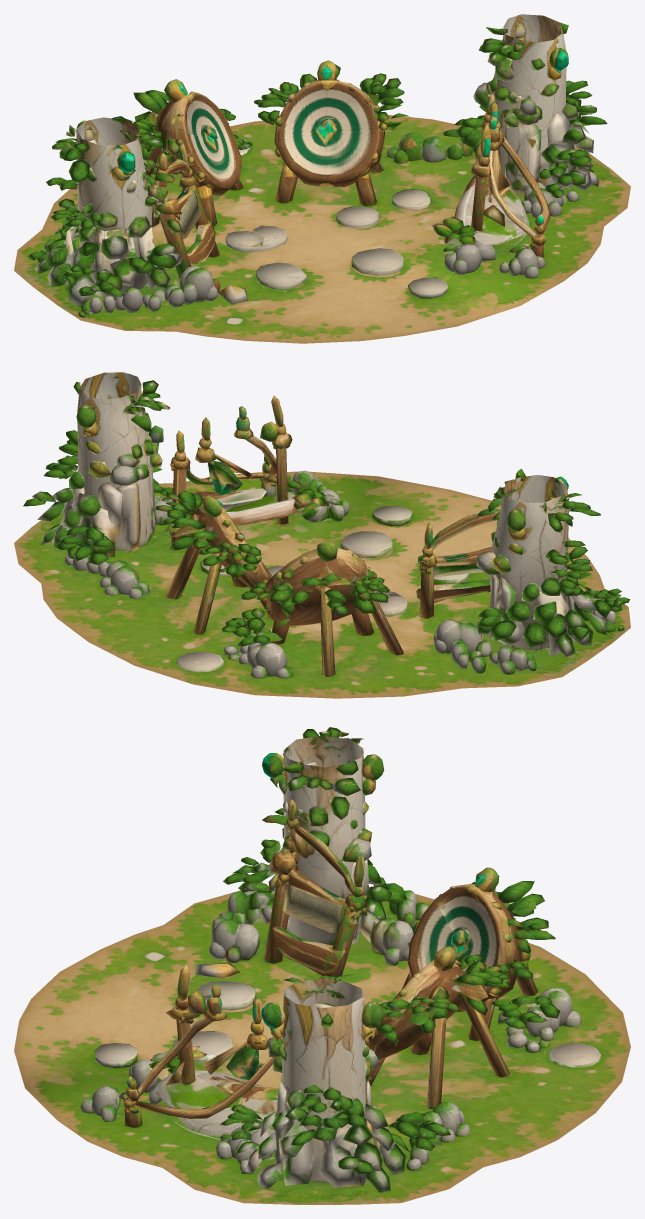
The model's file is arqueria_e2.glb.
3 views of the same model, one above another, from view 1: azimuth 30°, elevation 25°; view 2: azimuth 150°, elevation 25°; view 3: azimuth 270°, elevation 25° (orthographic). The views are drawn at different scales.
Visible parts, largest first — view 1: arqueria_cuerpo; view 2: arqueria_cuerpo; view 3: arqueria_cuerpo.
Boxes of the visible parts, x1=… form: arqueria_cuerpo: x1=14, y1=14, x2=630, y2=343; arqueria_cuerpo: x1=14, y1=372, x2=630, y2=698; arqueria_cuerpo: x1=14, y1=727, x2=630, y2=1204.
Bounding box in the file's own units: 1.42 × 0.3917 × 1.17.
Materials: 1 (1 with a texture image).
